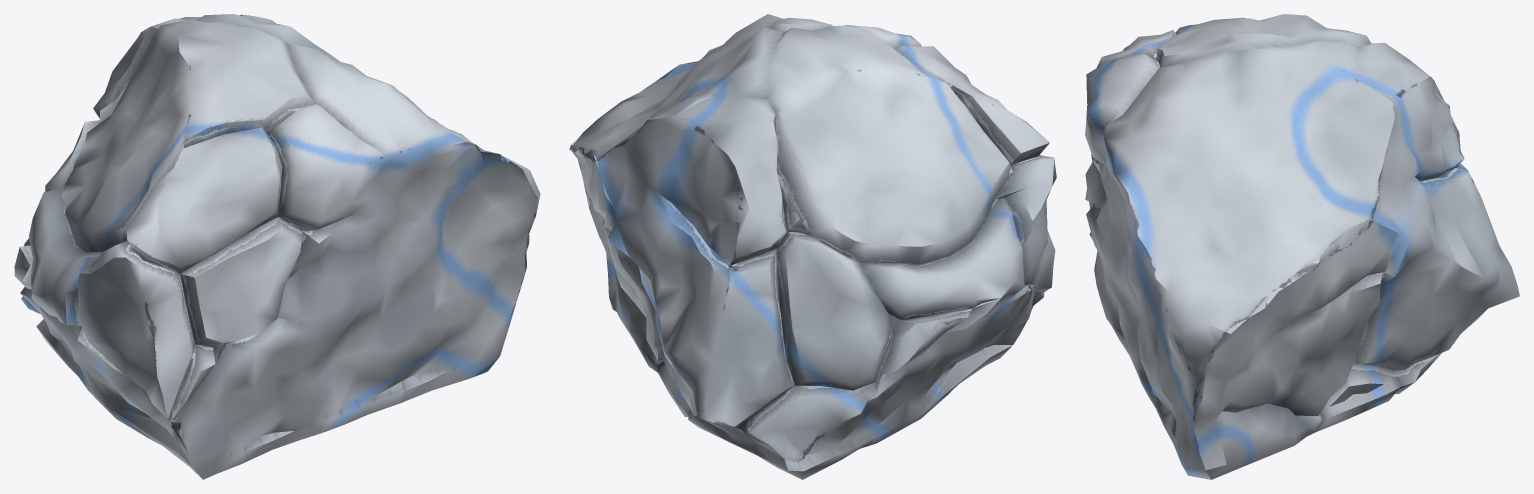
File: mineral_titanio.fbx
3 views of the same model, side by side, from view 1: azimuth 30°, elevation 25°; view 2: azimuth 150°, elevation 25°; view 3: azimuth 270°, elevation 25° (orthographic). The views are drawn at different scales.
Parts seen in each view (by area): view 1: mineral_titanio; view 2: mineral_titanio; view 3: mineral_titanio.
Part boxes in pixels (x1,y1,x2,y2): mineral_titanio: [14, 14, 540, 479]; mineral_titanio: [569, 14, 1056, 479]; mineral_titanio: [1085, 14, 1519, 479].
Bounding box in the file's own units: 2.2 × 1.61 × 1.81.
1 material, 1 textured.
